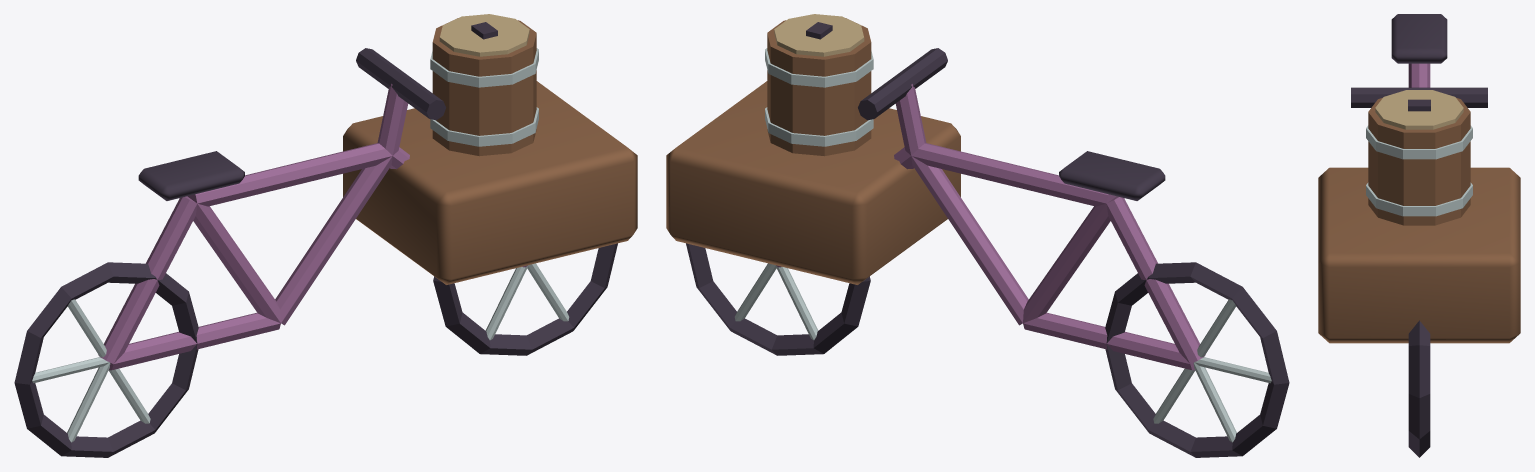
File: cargoBike.glb
The picture shows the model from 3 angles, left to right: view 1: azimuth 30°, elevation 25°; view 2: azimuth 150°, elevation 25°; view 3: azimuth 270°, elevation 25°; orthographic projection. The views are drawn at different scales.
Visible parts, largest first — view 1: Cube.072, Torus.004, Cone.272, Torus.005, Cone.268, Cone.267, Cone.265, Cone.264, Cube.071, Cone.266, Cone.275, Cone.271 (+8 smaller); view 2: Cube.072, Torus.004, Cone.272, Torus.005, Cone.268, Cone.267, Cone.265, Cone.264, Cube.071, Cone.266, Cone.275, Cone.271 (+8 smaller); view 3: Cube.072, Cone.272, Torus.005, Cube.071, Cone.275, Cone.271, Cone.273, Cone.274, Cone.267, Cube.073.
Part boxes in pixels (x1,y1,x2,y2): Cube.072: [343, 81, 637, 284]; Torus.004: [14, 262, 198, 457]; Cone.272: [432, 18, 536, 156]; Torus.005: [433, 243, 617, 355]; Cone.268: [275, 156, 392, 325]; Cone.267: [187, 143, 392, 206]; Cone.265: [98, 196, 197, 363]; Cone.264: [109, 312, 280, 370]; Cube.071: [138, 151, 244, 200]; Cone.266: [193, 203, 280, 323]; Cone.275: [439, 14, 529, 56]; Cone.271: [356, 48, 445, 120]; Cube.072: [666, 81, 960, 284]; Torus.004: [1105, 262, 1289, 457]; Cone.272: [767, 18, 871, 156]; Torus.005: [686, 243, 870, 355]; Cone.268: [911, 156, 1028, 325]; Cone.267: [911, 143, 1116, 206]; Cone.265: [1106, 196, 1205, 363]; Cone.264: [1023, 312, 1194, 370]; Cube.071: [1059, 151, 1165, 200]; Cone.266: [1023, 203, 1110, 323]; Cone.275: [774, 14, 864, 56]; Cone.271: [858, 48, 947, 120]; Cube.072: [1318, 167, 1520, 343]; Cone.272: [1368, 98, 1470, 225]; Torus.005: [1408, 320, 1430, 457]; Cube.071: [1391, 14, 1447, 63]; Cone.275: [1375, 90, 1463, 129]; Cone.271: [1351, 87, 1487, 107]; Cone.273: [1366, 182, 1472, 216]; Cone.274: [1366, 125, 1472, 159]; Cone.267: [1408, 63, 1430, 87]; Cube.073: [1408, 99, 1430, 111].
Bounding box in the file's own units: 2.17 × 1.16 × 0.65.
